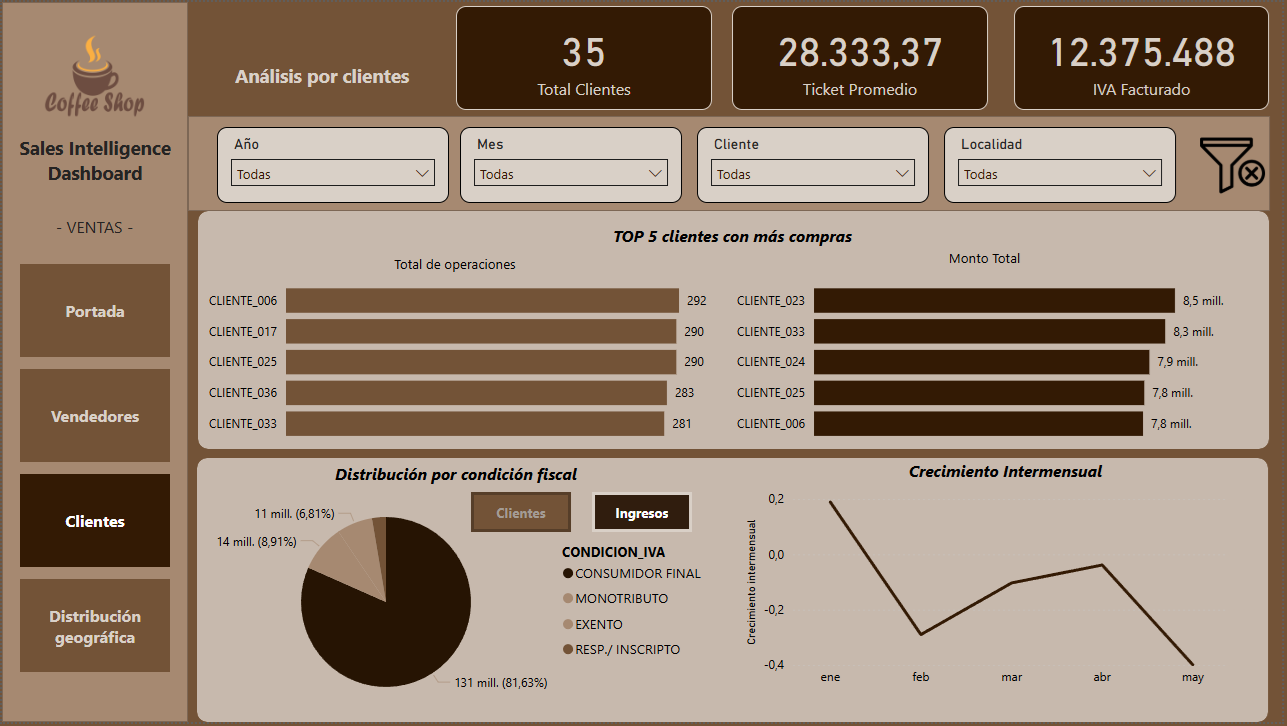

What the dashboard file says about the page in this screenshot:
{"tool":"powerbi","page":{"name":"Clientes","canvas":[1280,720],"ordinal":2},"visuals":[{"type":"shape","box":[0,0,186,720],"z":0},{"type":"pieChart","title":"Distrib x cond fiscal x ingreso","fields":{"Category":["Condicion Fiscal.CONDICION_IVA"],"Y":["#Medidas.Ingresos_TOT"]},"box":[203,481,510,238],"z":0,"group":"g1"},{"type":"shape","box":[186,114,1082,95],"z":1000},{"type":"actionButton","title":"Clientes inactivo","box":[469,490,100,40],"z":1000,"group":"g1"},{"type":"image","box":[21,0,143,149],"z":2000},{"type":"actionButton","title":"Ingresos activo","box":[590,490,100,40],"z":2000,"group":"g1"},{"type":"textbox","box":[0,127.9,185.9,81.6],"z":3000},{"type":"textbox","box":[33,209,119,37],"z":4000},{"type":"pageNavigator","box":[17,261,152,410],"z":5000},{"type":"textbox","box":[185.8,56.4,268.4,37],"z":6000},{"type":"slicer","fields":{"Values":["Calendario.Año"]},"box":[215,125.5,232.5,75.9],"z":7000},{"type":"slicer","fields":{"Values":["Calendario.Mes (Abreviado)"]},"box":[458.1,125.5,221.8,75.9],"z":8000},{"type":"slicer","fields":{"Values":["Localidades.LOCALIDAD"]},"box":[942,125,232,76],"z":9000},{"type":"card","fields":{"Values":["#Medidas.IVA_Total"]},"box":[1011.6,3.9,255.8,104.1],"z":10000},{"type":"card","fields":{"Values":["#Medidas.Ticket_Prom"]},"box":[730.5,3.9,255.8,104.1],"z":11000},{"type":"card","fields":{"Values":["#Medidas.TOT_Clientes"]},"box":[454.2,3.9,255.8,104.1],"z":12000},{"type":"shape","box":[196,209,1071,238],"z":13000},{"type":"clusteredBarChart","fields":{"Y":["#Medidas.TOT_COMPROB_EMITIDOS"],"Category":["Clientes.RAZON_SOCIAL"]},"box":[195.5,260.7,514.5,191.6],"z":14000},{"type":"textbox","box":[194.5,217.9,1071.9,37],"z":15000},{"type":"textbox","box":[195.5,248,514.5,37],"z":16000},{"type":"clusteredBarChart","fields":{"Y":["#Medidas.Ingresos_TOT"],"Category":["Clientes.RAZON_SOCIAL"]},"box":[723.6,260.7,517.4,191.6],"z":17000},{"type":"textbox","box":[723.6,242.2,517.4,37],"z":18000},{"type":"shape","box":[195,456,1071,264],"z":19000},{"type":"slicer","fields":{"Values":["Clientes.RAZON_SOCIAL"]},"box":[695,125,232,76],"z":20000},{"type":"lineChart","fields":{"Category":["Calendario.Mes (Abreviado)"],"Y":["#Medidas.Crec_Intermensual (%)"]},"box":[739.2,483.4,493.1,218.8],"z":21000},{"type":"textbox","box":[740,453,527,37],"z":22000},{"type":"textbox","box":[195,456,518,37],"z":23000},{"type":"image","box":[1193,126,75,75],"z":24000},{"type":"group","id":"g1","title":"Cond Fisc x Ingresos","box":[203,481,510,238],"z":26000}]}

Visuals, with their boxes in screenshot pixels (x1, y1, x2, y2), scaled from the page's 1280x720 canvas onto the 1287x726 screenshot:
shape: detection(0, 0, 187, 725)
"Distrib x cond fiscal x ingreso" pieChart: detection(204, 485, 717, 725)
shape: detection(187, 115, 1275, 211)
"Clientes inactivo" actionButton: detection(472, 494, 572, 534)
image: detection(21, 0, 165, 150)
"Ingresos activo" actionButton: detection(593, 494, 694, 534)
textbox: detection(0, 129, 187, 211)
textbox: detection(33, 211, 153, 248)
pageNavigator: detection(17, 263, 170, 677)
textbox: detection(187, 57, 457, 94)
slicer - Calendario.Año: detection(216, 127, 450, 203)
slicer - Calendario.Mes (Abreviado): detection(461, 127, 684, 203)
slicer - Localidades.LOCALIDAD: detection(947, 126, 1180, 203)
card - #Medidas.IVA_Total: detection(1017, 4, 1274, 109)
card - #Medidas.Ticket_Prom: detection(734, 4, 992, 109)
card - #Medidas.TOT_Clientes: detection(457, 4, 714, 109)
shape: detection(197, 211, 1274, 451)
clusteredBarChart - #Medidas.TOT_COMPROB_EMITIDOS x Clientes.RAZON_SOCIAL: detection(197, 263, 714, 456)
textbox: detection(196, 220, 1273, 257)
textbox: detection(197, 250, 714, 287)
clusteredBarChart - #Medidas.Ingresos_TOT x Clientes.RAZON_SOCIAL: detection(728, 263, 1248, 456)
textbox: detection(728, 244, 1248, 282)
shape: detection(196, 460, 1273, 725)
slicer - Clientes.RAZON_SOCIAL: detection(699, 126, 932, 203)
lineChart - Calendario.Mes (Abreviado) x #Medidas.Crec_Intermensual (%): detection(743, 487, 1239, 708)
textbox: detection(744, 457, 1274, 494)
textbox: detection(196, 460, 717, 497)
image: detection(1200, 127, 1275, 203)
"Cond Fisc x Ingresos" group: detection(204, 485, 717, 725)
